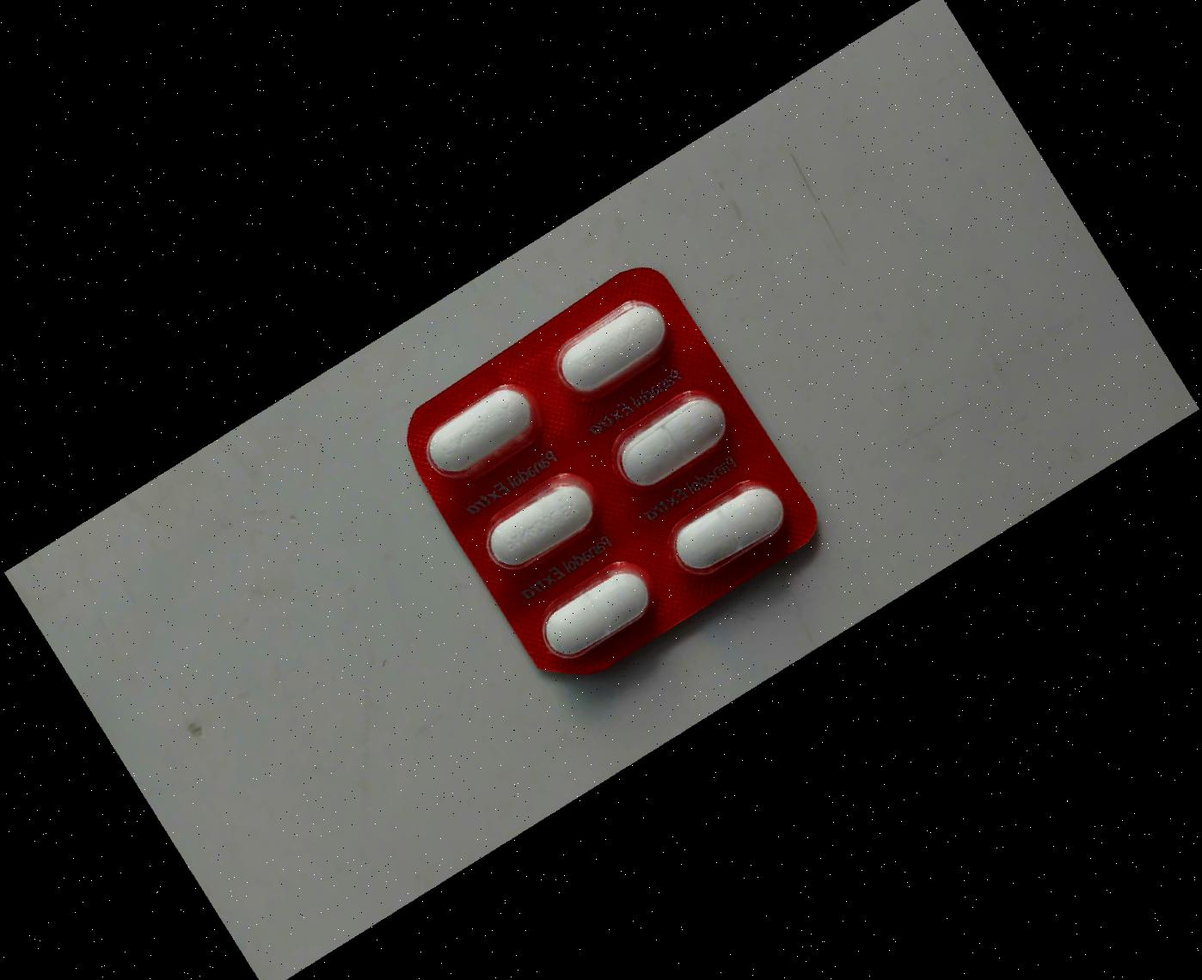Full: (524, 549, 671, 676), (656, 463, 803, 590), (468, 460, 615, 587), (600, 377, 747, 504), (408, 370, 555, 497), (540, 280, 687, 407)
